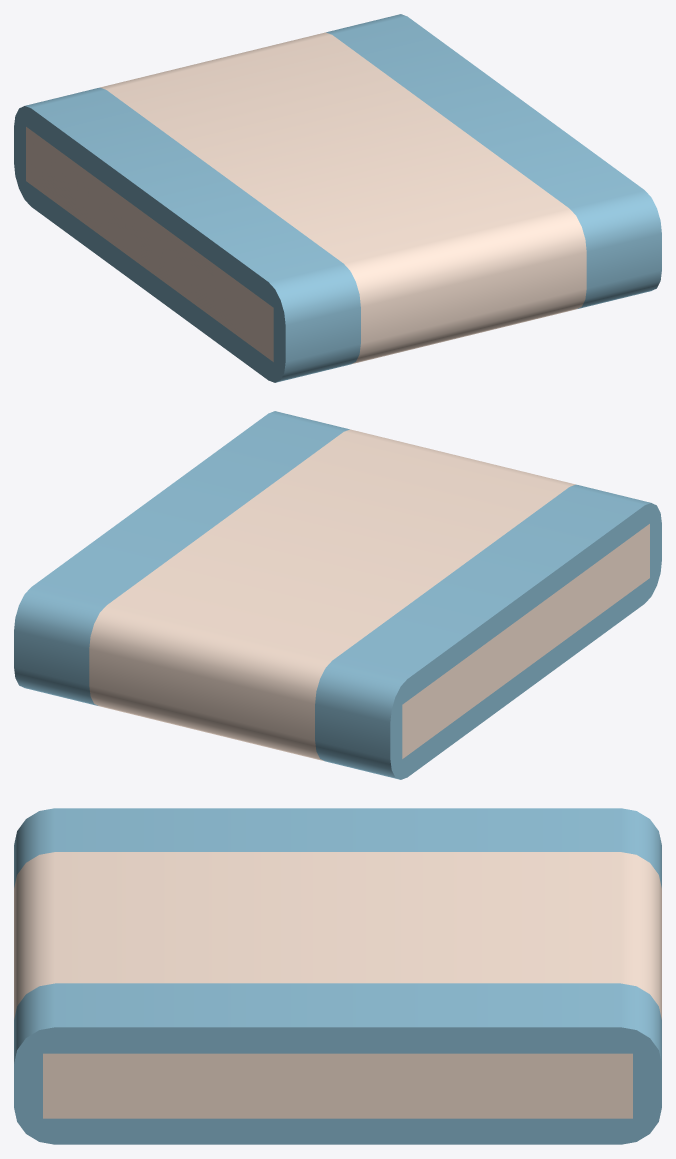
The model's file is Props_Conveyor_Blue_01.fbx.
3 renders of one model, top to bottom at view 1: azimuth 30°, elevation 25°; view 2: azimuth 150°, elevation 25°; view 3: azimuth 270°, elevation 25°, orthographic. The views are drawn at different scales.
Parts seen in each view (by area): view 1: Props_Conveyor_Blue_01; view 2: Props_Conveyor_Blue_01; view 3: Props_Conveyor_Blue_01.
Boxes of the visible parts, bbox=[...] form: Props_Conveyor_Blue_01: bbox=[14, 14, 661, 382]; Props_Conveyor_Blue_01: bbox=[14, 411, 661, 779]; Props_Conveyor_Blue_01: bbox=[14, 808, 661, 1144].
Size of the model in its own units: 80 by 20 by 100.
